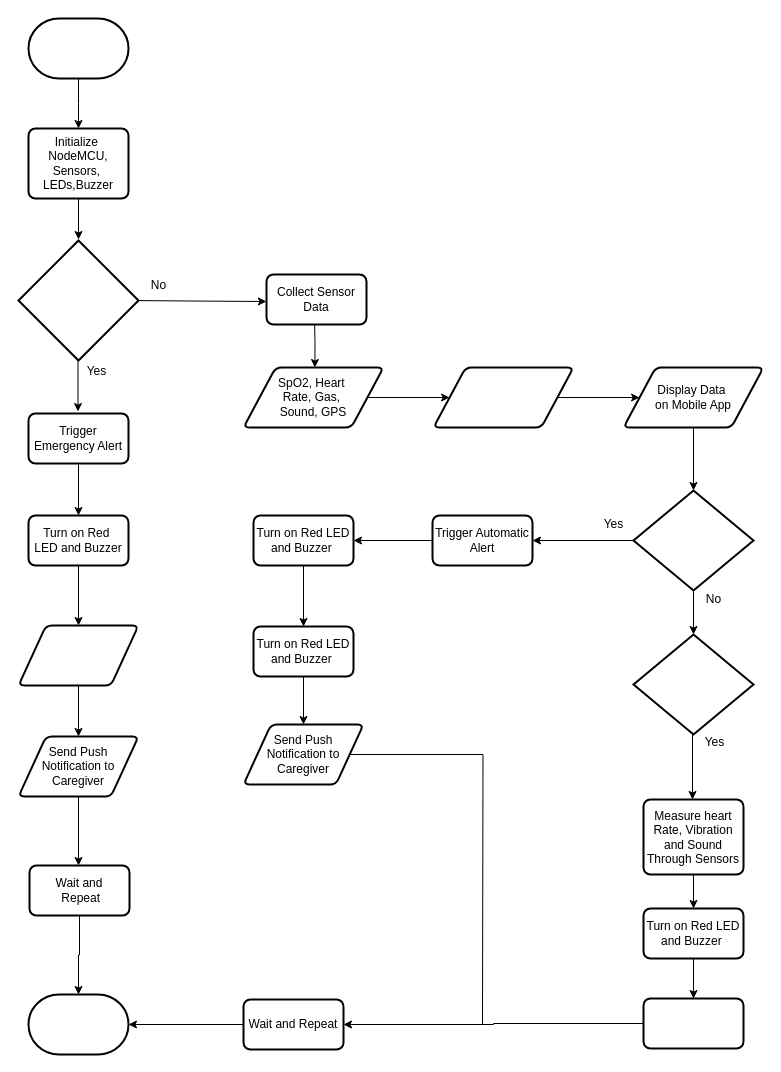
Image size: 781x1072. Some labels were removed from this diagram. The box of each missing label's shape, as (x1, y1, x2, y2) in pixels:
Any Abnormal Conditions: (632, 489, 754, 591)
Continue Monitoring: (642, 997, 744, 1049)
Emergency Button Pressed?: (17, 239, 139, 361)
If Cough Detected: (632, 633, 754, 735)
Send Alert to Firebase: (17, 624, 139, 686)
Send Data to Firebase Cloud: (432, 366, 574, 428)
Start: (27, 17, 129, 79)
Stop: (27, 993, 129, 1055)
